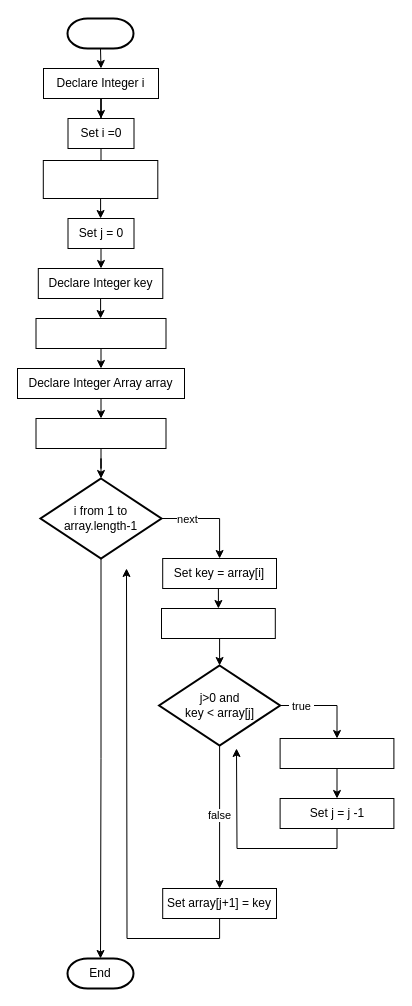
Some shapes in this 412 by 1006 pixel diagram are drawn without their labels. Here are the shapes that lost their labels. From the top down, the centre of each, then its label:
At point (100, 33): "Main".
At point (100, 179): "Declare Integer j".
At point (100, 333): "Set key = 0".
At point (100, 433): "Set array = [0,5,3,2,7,9]".
At point (217, 623): "Set j = i + 1".
At point (336, 753): "Set array[j+1] = array[j]".
